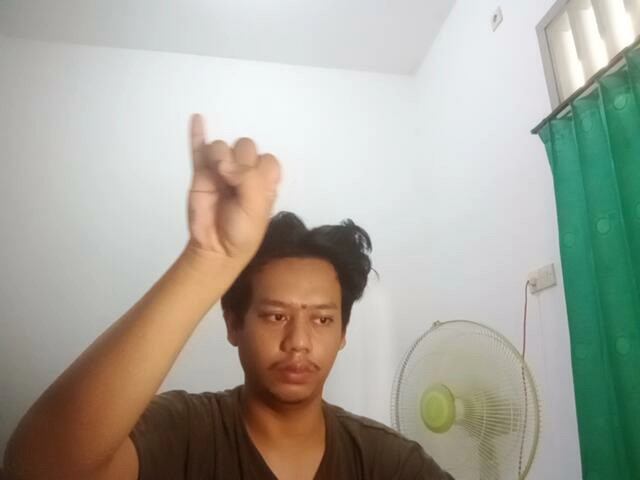I: (170, 104, 295, 267)
